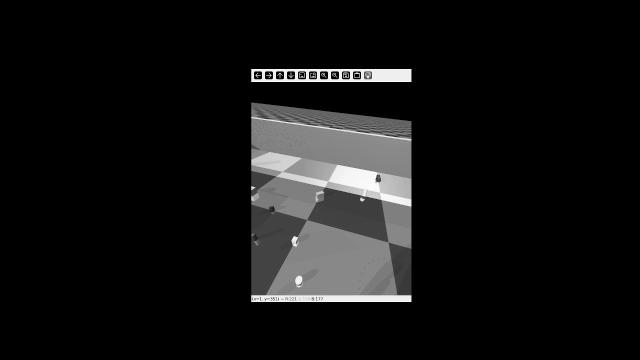cilindro: (375, 172, 384, 185), (250, 230, 259, 242), (362, 186, 370, 199), (269, 205, 279, 213)
cuadrado: (251, 184, 259, 196), (291, 234, 299, 244)
esfera: (295, 274, 306, 288)
rectangulo: (314, 188, 325, 199)
